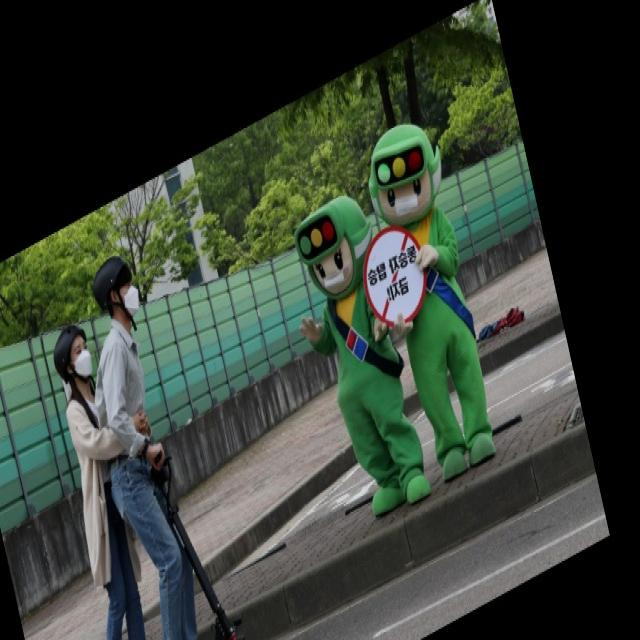helmet: (84, 255, 156, 332), (47, 318, 98, 389)
human: (85, 251, 209, 639), (47, 319, 146, 640)
